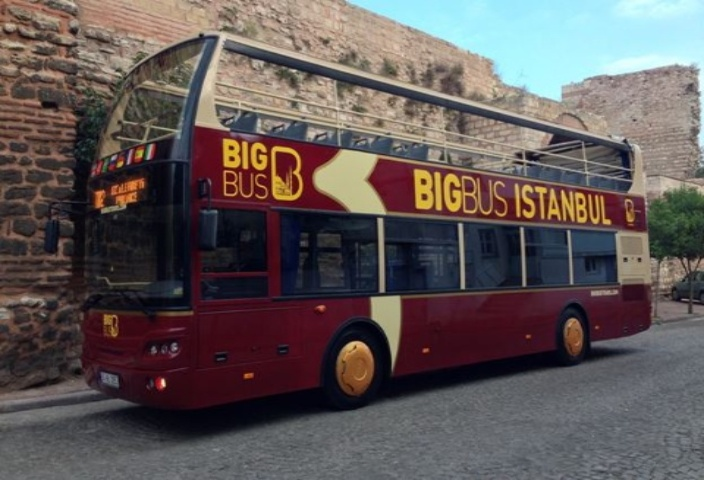bus: (58, 40, 655, 411)
